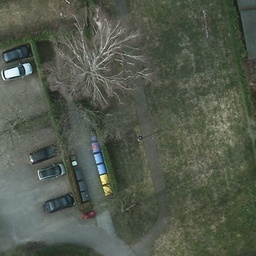car: (36, 163, 66, 184), (2, 42, 30, 61), (5, 62, 34, 80), (44, 194, 74, 211), (29, 145, 58, 162)
